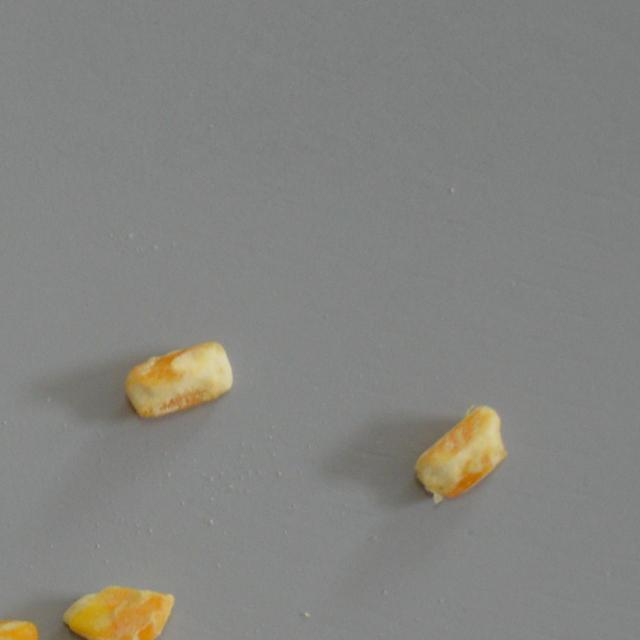dañado: (122, 334, 238, 422), (58, 581, 176, 640)
punto_negro: (410, 398, 509, 507)
